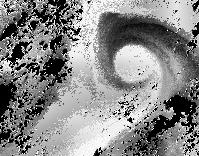CE: (94, 10, 180, 99)
